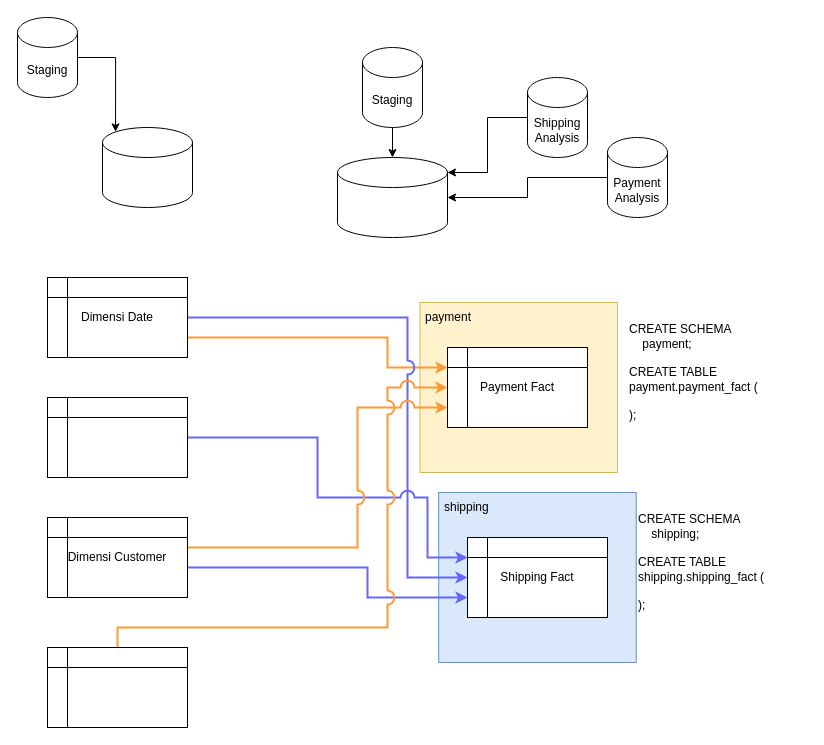
Image size: 824x745. Some labels were removed from this diagram. The centre of each missing label's shape, as x and y in pixels:
"Data Warehouse" goes at (392,197).
"Dimensi Payment" goes at (117,687).
"Dimensi Produk" goes at (117,437).
"Ecommerce" goes at (147,167).
